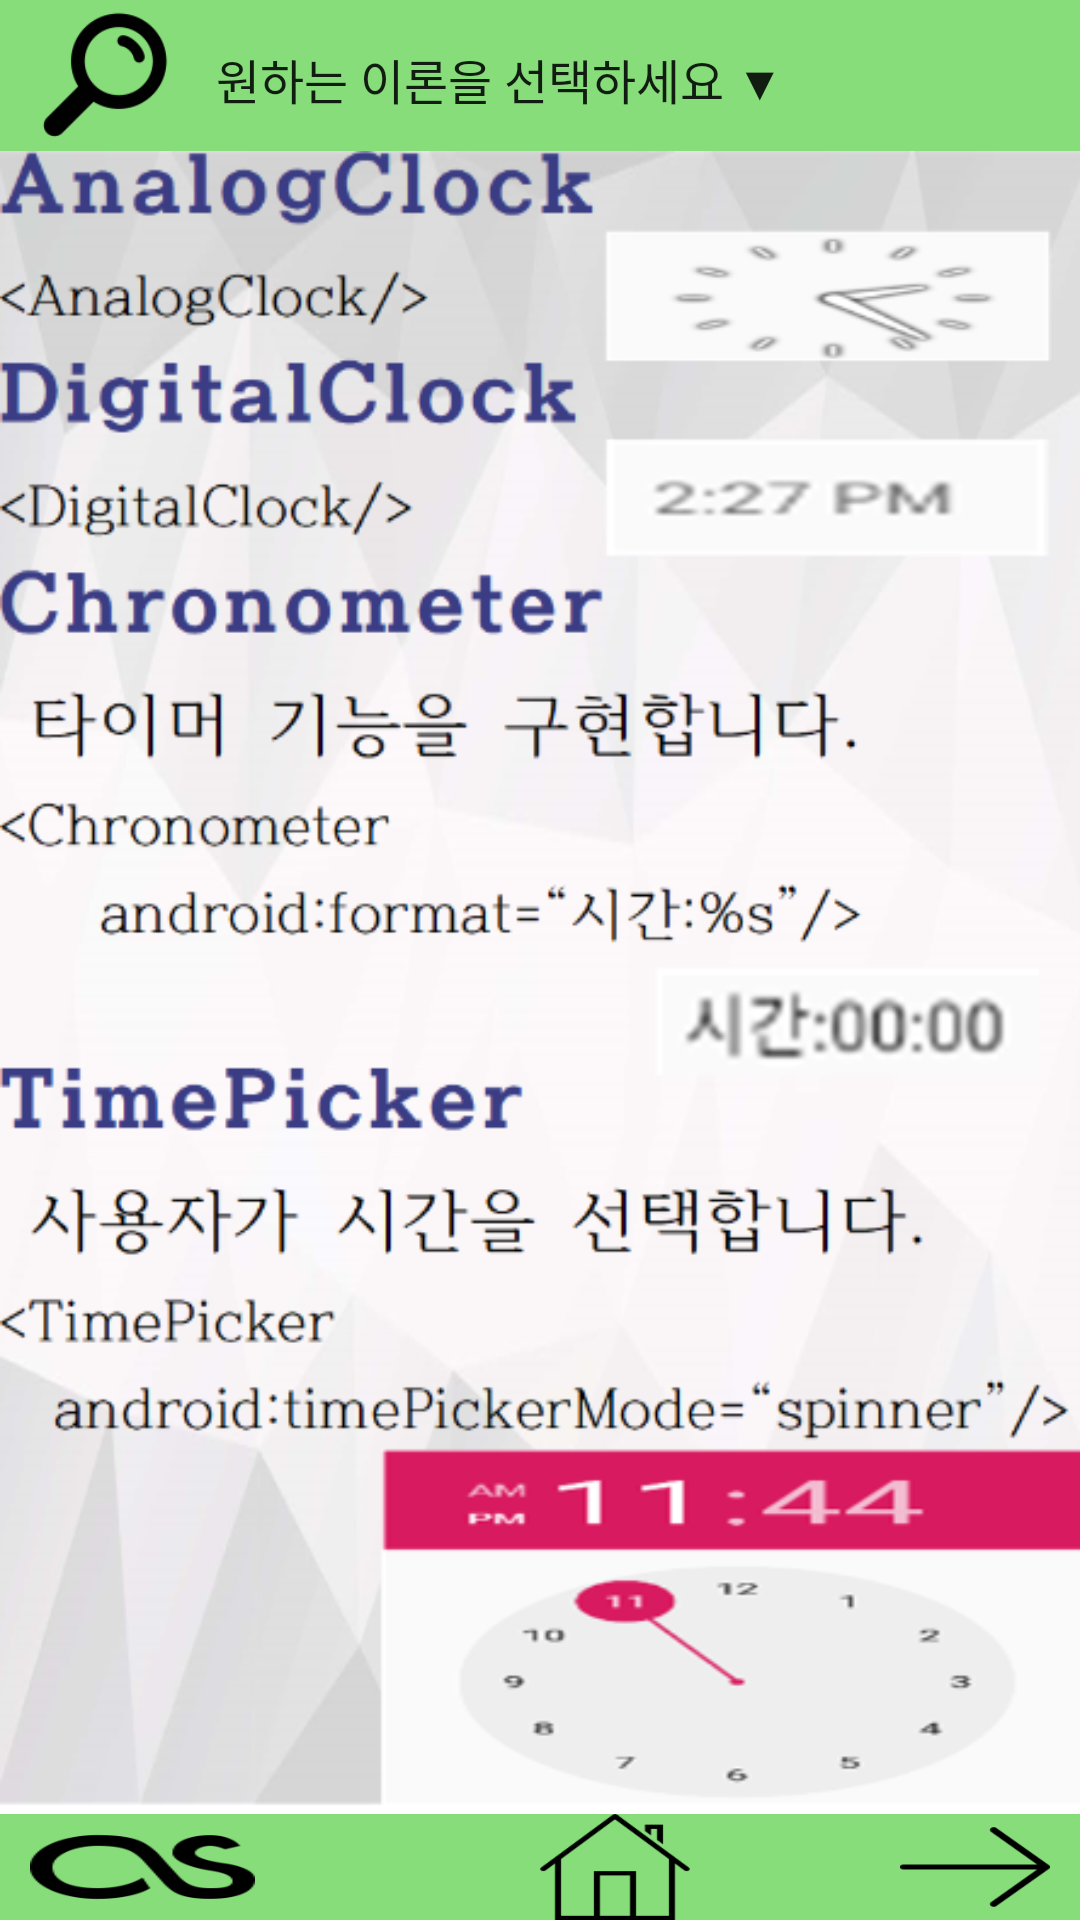

Named icons in this screenshot (1080 × 1920) and their centers, (x,y):
home: (615,1867)
next: (975,1867)
search: (105,75)
